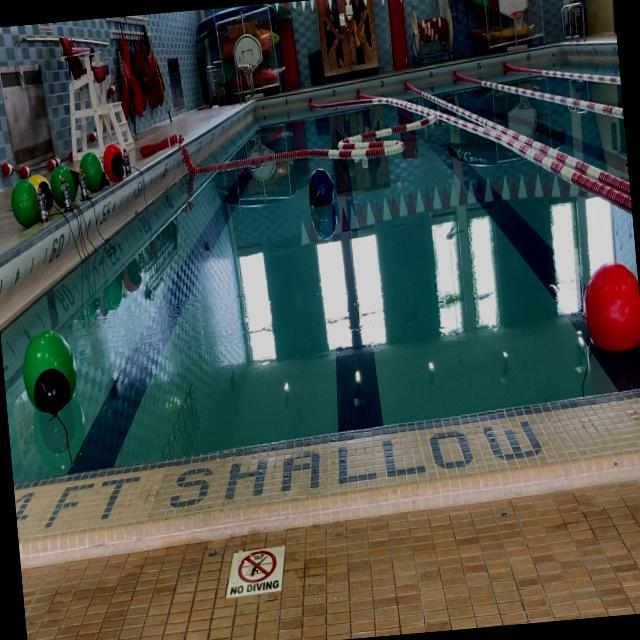buoy: (17, 325, 78, 418), (580, 264, 640, 355), (305, 168, 332, 207)
